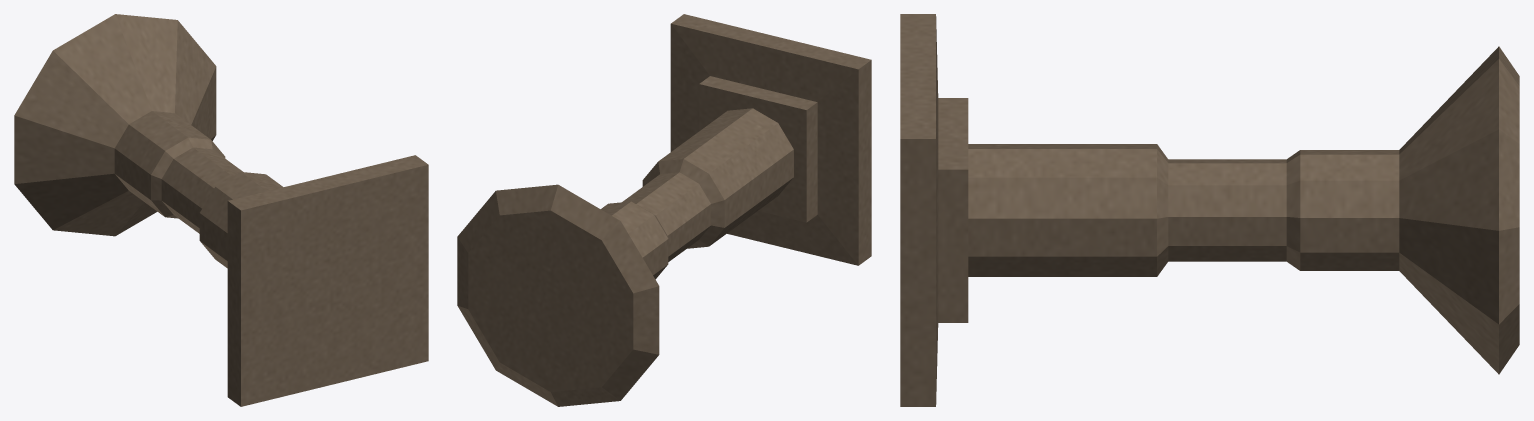
Rendered from ice_share_firestatue.FBX.
3 renders of one model, left to right at view 1: azimuth 30°, elevation 25°; view 2: azimuth 150°, elevation 25°; view 3: azimuth 270°, elevation 25°, orthographic. The views are drawn at different scales.
Parts seen in each view (by area): view 1: winter_middle_campfire; view 2: winter_middle_campfire; view 3: winter_middle_campfire.
Part boxes in pixels (x1,y1,x2,y2): winter_middle_campfire: [14, 14, 428, 406]; winter_middle_campfire: [457, 14, 871, 406]; winter_middle_campfire: [900, 14, 1519, 406].
Bounding box in the file's own units: 47.66 × 50.11 × 92.76.
